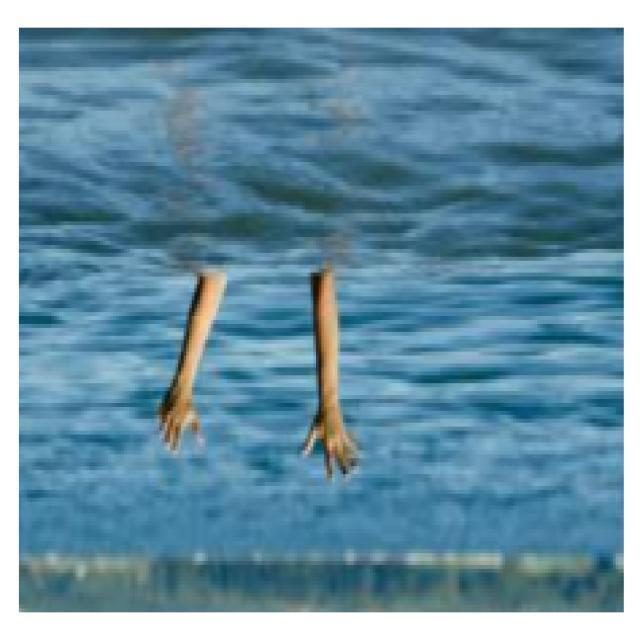Out of Water: (150, 253, 366, 490)
